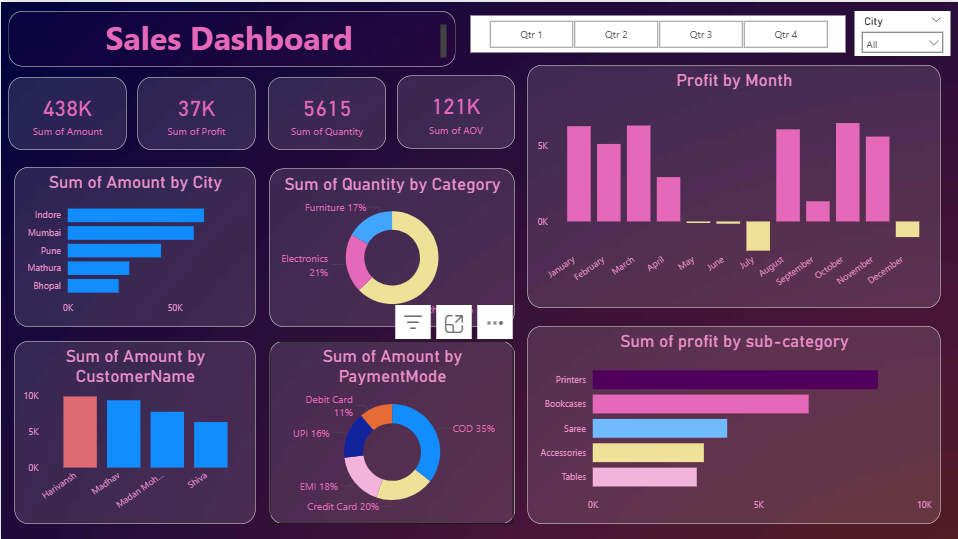

What the dashboard file says about the page in this screenshot:
{"tool":"powerbi","page":{"name":"Page 1","canvas":[1280,720],"ordinal":0},"visuals":[{"type":"textbox","box":[10,12,596,74],"z":0},{"type":"columnChart","title":"Profit by Month","fields":{"Category":["Orders.Order Date.Variation.Date Hierarchy.Month"],"Y":["Details.Profit"]},"box":[702,84.9,550.8,324],"z":1000},{"type":"barChart","title":"Sum of profit by sub-category","fields":{"Category":["Details.Sub-Category"],"Y":["Details.Profit"]},"box":[702,432,550.8,263.8],"z":2000},{"type":"donutChart","fields":{"Category":["Details.Category"],"Y":["Details.Quantity"]},"box":[357.2,221.1,326.9,211.7],"z":3000},{"type":"card","fields":{"Values":["Details.AOV"]},"box":[527.7,98.7,157.4,97.2],"z":4000},{"type":"card","fields":{"Values":["Details.Quantity"]},"box":[356.4,100.3,157.4,97.2],"z":5000},{"type":"card","fields":{"Values":["Details.Profit"]},"box":[182.1,100.3,157.4,97.2],"z":6000},{"type":"card","fields":{"Values":["Details.Amount"]},"box":[9.3,100.3,157.4,97.2],"z":7000},{"type":"barChart","fields":{"Y":["Details.Amount"],"Category":["Orders.City"]},"box":[17,219.2,321.3,213.5],"z":8000},{"type":"columnChart","fields":{"Y":["Details.Amount"],"Category":["Orders.CustomerName"]},"box":[17,451.7,321.3,243.8],"z":9000},{"type":"donutChart","fields":{"Category":["Details.PaymentMode"],"Y":["Details.Amount"]},"box":[357,452,327,244],"z":10000},{"type":"slicer","fields":{"Values":["Orders.Order Date.Variation.Date Hierarchy.Quarter"]},"box":[626.4,18.5,499.9,49.4],"z":11000},{"type":"slicer","fields":{"Values":["Orders.City"]},"box":[1137.1,12.3,128.1,60.2],"z":12000}]}

Visuals, with their boxes in screenshot pixels (x1, y1, x2, y2), scaled from the page's 1280x720 canvas onto the 958x539 screenshot:
textbox: bbox(7, 9, 454, 64)
"Profit by Month" columnChart: bbox(525, 64, 938, 306)
"Sum of profit by sub-category" barChart: bbox(525, 323, 938, 521)
donutChart - Details.Category x Details.Quantity: bbox(267, 166, 512, 324)
card - Details.AOV: bbox(395, 74, 513, 147)
card - Details.Quantity: bbox(267, 75, 385, 148)
card - Details.Profit: bbox(136, 75, 254, 148)
card - Details.Amount: bbox(7, 75, 125, 148)
barChart - Details.Amount x Orders.City: bbox(13, 164, 253, 324)
columnChart - Details.Amount x Orders.CustomerName: bbox(13, 338, 253, 521)
donutChart - Details.PaymentMode x Details.Amount: bbox(267, 338, 512, 521)
slicer - Orders.Order Date.Variation.Date Hierarchy.Quarter: bbox(469, 14, 843, 51)
slicer - Orders.City: bbox(851, 9, 947, 54)
